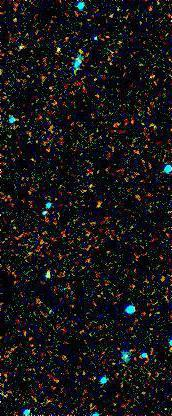star: (47, 34, 77, 64)
